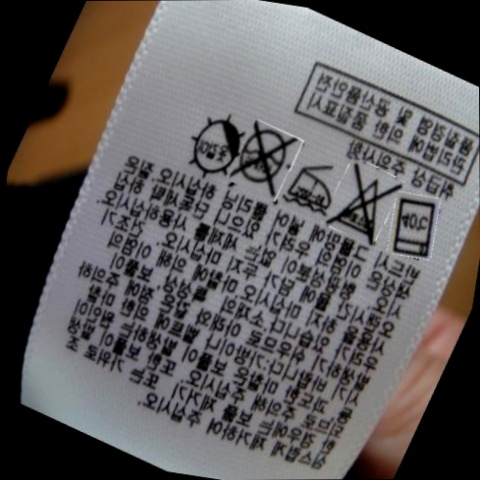40C: (387, 192, 445, 263)
DN_dry_clean: (237, 115, 293, 195)
iron_low: (285, 157, 339, 217)
line_dry_in_shade: (183, 107, 244, 181)
non_chlorine_bleach: (330, 158, 398, 245)
